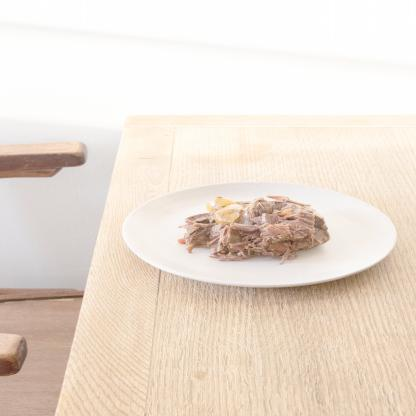Carne: (274, 209, 328, 252), (211, 226, 270, 254)
